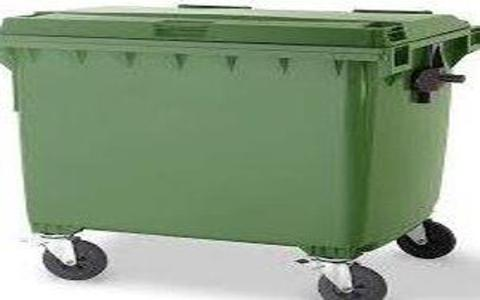Proper garbage: (1, 2, 475, 298)
